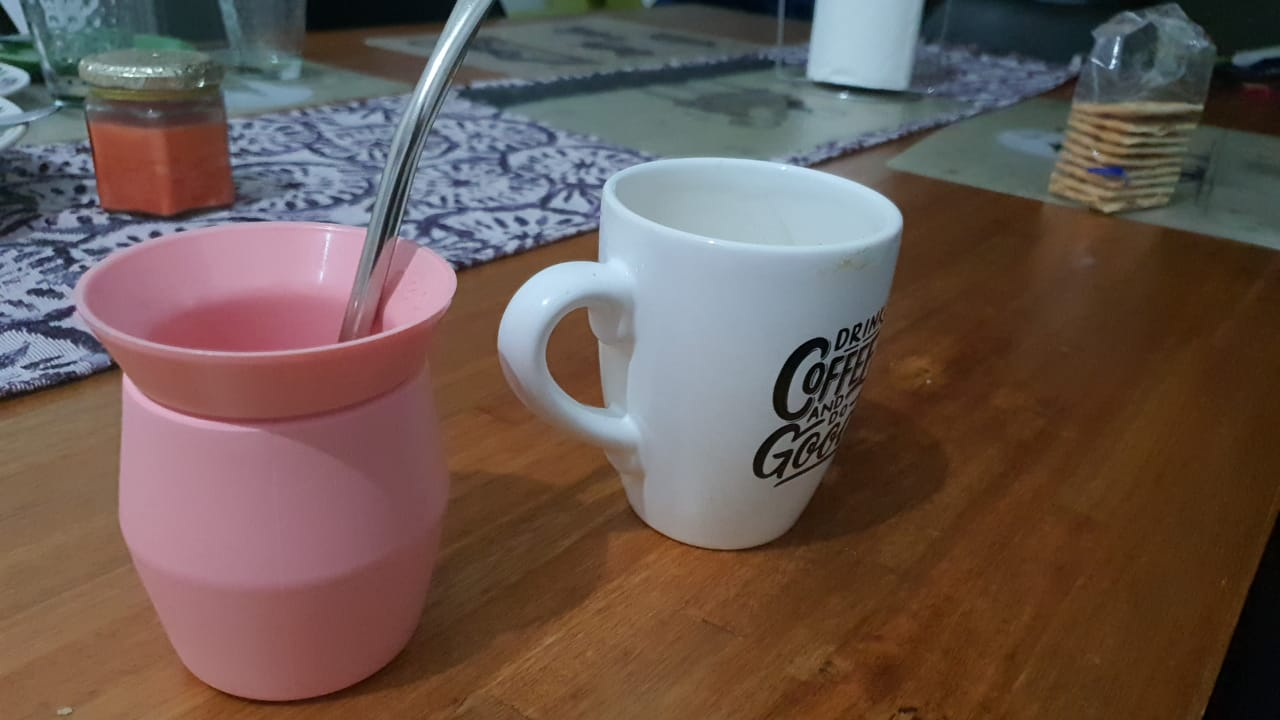mate: (57, 185, 488, 703)
plastico: (62, 222, 468, 700)
